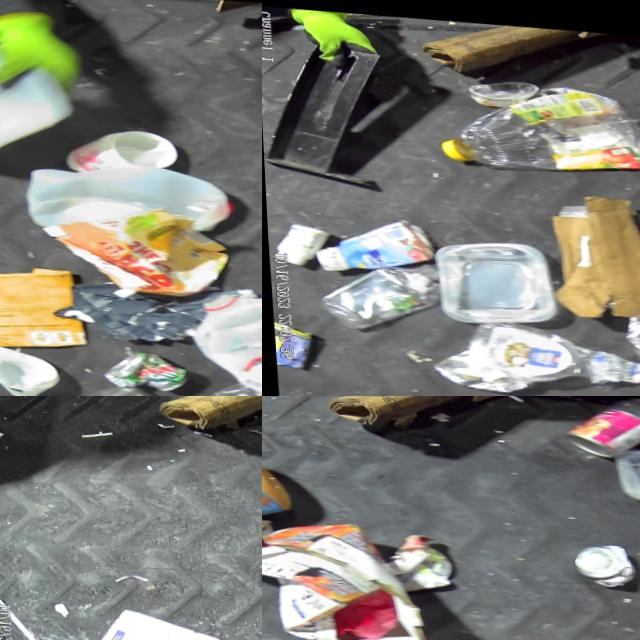can: (426, 341, 529, 392), (558, 396, 640, 456), (94, 342, 185, 391), (562, 530, 640, 582), (269, 318, 314, 370), (619, 293, 640, 365)
milk_jug: (20, 152, 230, 239), (0, 42, 77, 172), (180, 280, 262, 396)
plastic_bottle: (430, 73, 640, 177), (463, 311, 640, 386)
